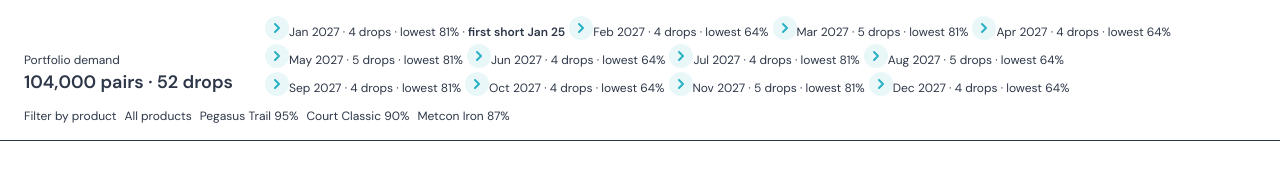
Test: SeatBar › shows nothing for an open month that is gone after the drops change, and never throws (lane pre-empt: state between targets)
Click the button "Feb 2027 · 4 drops · lowest 64%" at {"x": 669, "y": 28}, box [569,16,769,40]
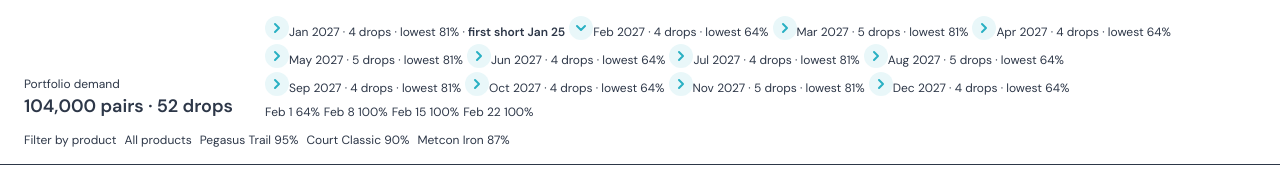
Check: the element named "Drops in Feb 2027" is shown, box [265,104,534,120]
